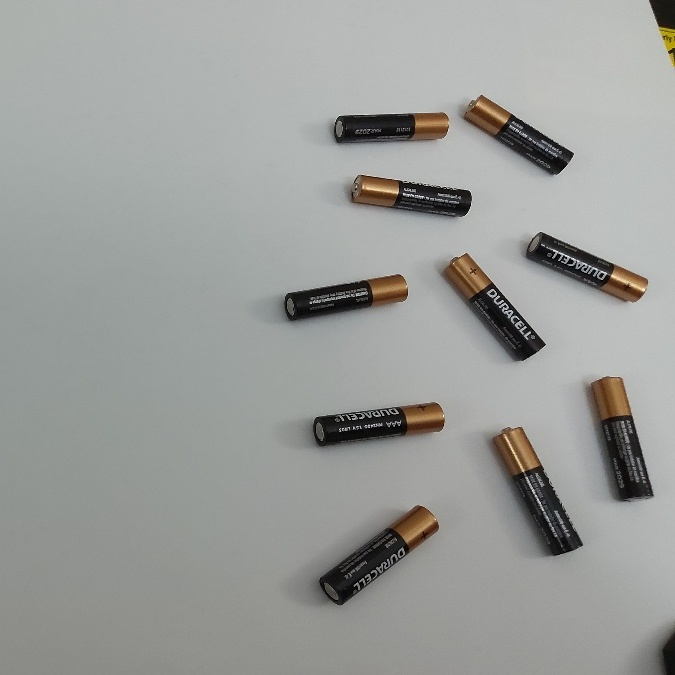battery: (486, 416, 583, 561), (315, 504, 438, 605), (442, 247, 546, 362), (521, 228, 649, 302), (585, 364, 651, 504), (464, 95, 574, 175), (311, 393, 449, 449), (346, 172, 471, 223), (282, 269, 407, 319), (332, 103, 449, 146)
